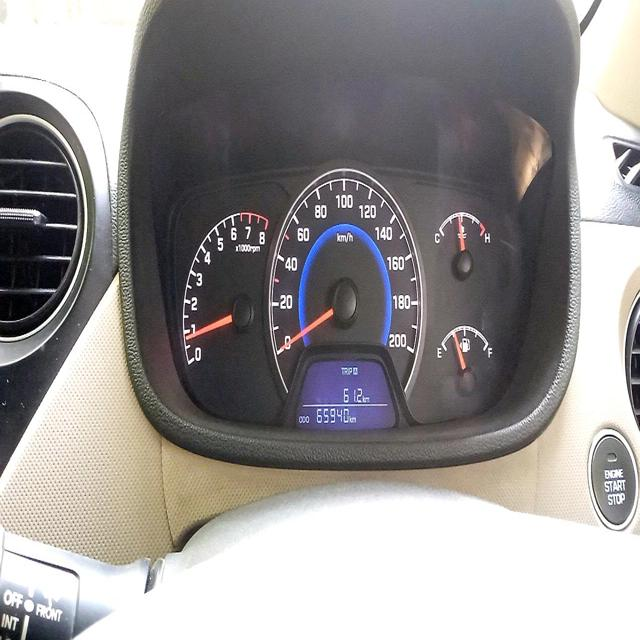odometer: (314, 406, 350, 428)
